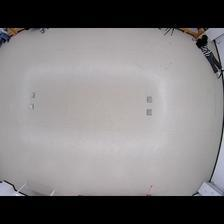fall: (195, 33, 224, 77)
